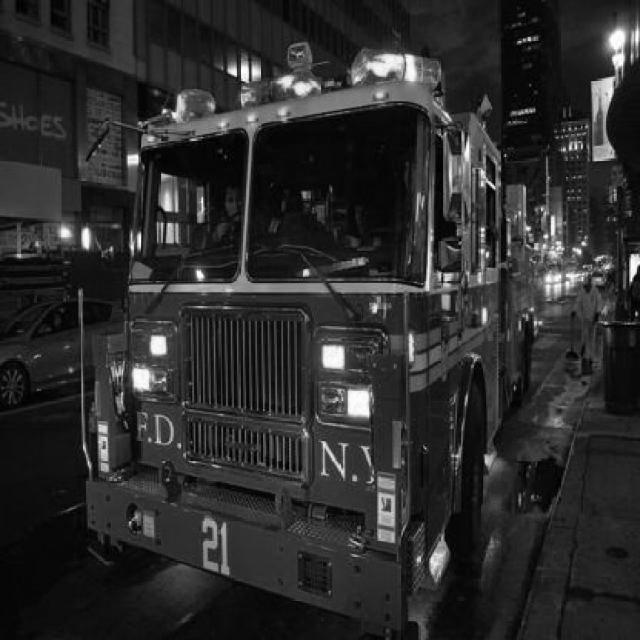Fire Truck: (83, 41, 540, 640)
